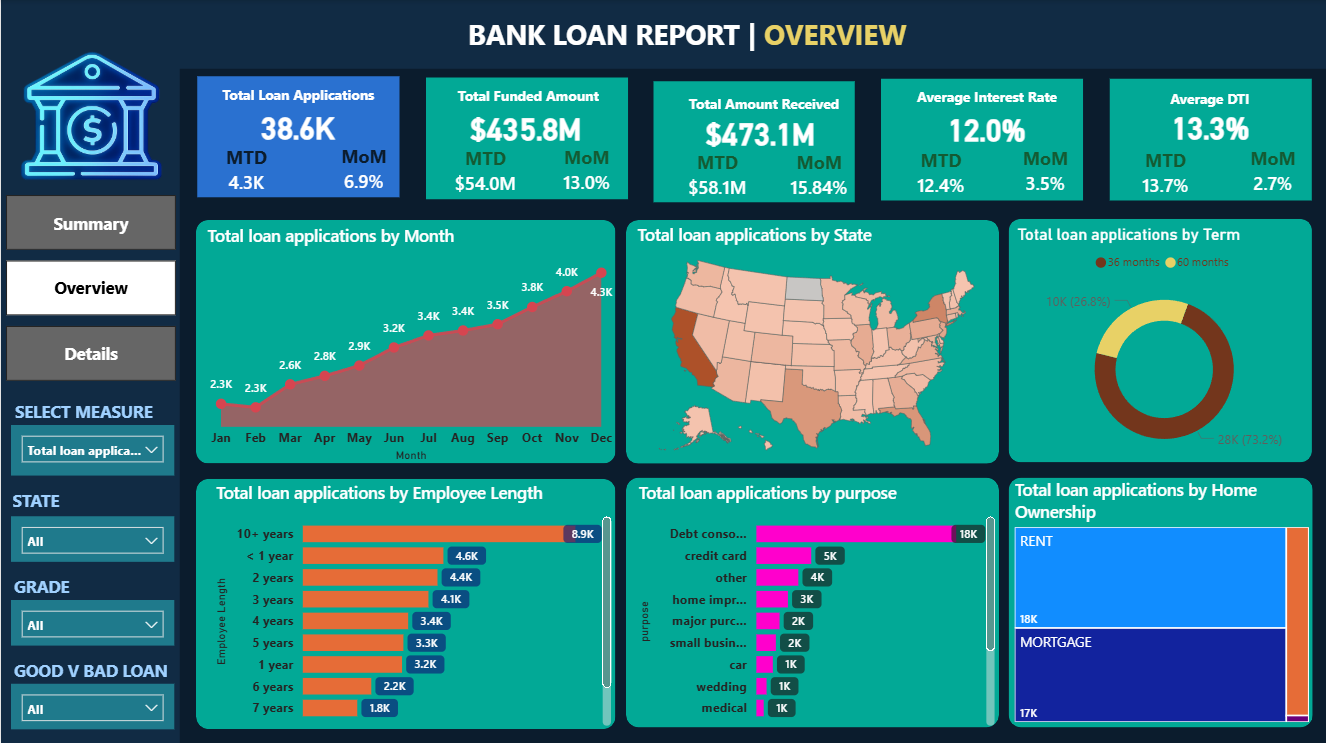

What the dashboard file says about the page in this screenshot:
{"tool":"powerbi","page":{"name":"Overview","canvas":[1280,720],"ordinal":1},"visuals":[{"type":"shape","box":[0,0,172.5,720.2],"z":0},{"type":"shape","box":[188.2,212.3,405,235],"z":1000},{"type":"shape","box":[410,74.8,195,117.5],"z":2000},{"type":"textbox","box":[411.2,78.8,195,38.8],"z":3000},{"type":"shape","box":[0,0,1280,66.4],"z":4000},{"type":"textbox","box":[437.9,9.7,448.8,45.8],"z":5000},{"type":"card","fields":{"Values":["Bank_Loan_Data.Total funded Amount"]},"box":[423.8,103.8,166.2,40],"z":6000},{"type":"card","title":"MTD","fields":{"Values":["Bank_Loan_Data.MTD Funded Amount"]},"box":[428.8,141.2,78.8,53.8],"z":7000},{"type":"card","title":"MoM","fields":{"Values":["Bank_Loan_Data.MoM Total Funded Amount"]},"box":[530,140,71.2,53.8],"z":8000},{"type":"shape","box":[189.4,73.8,195.4,117],"z":9000},{"type":"textbox","box":[189.7,77.6,195,38.8],"z":10000},{"type":"card","fields":{"Values":["Bank_Loan_Data.Total loan applications"]},"box":[202.9,103,167.7,39.8],"z":11000},{"type":"card","title":"MTD","fields":{"Values":["Bank_Loan_Data.MTD Loan Applicatons"]},"box":[207.4,140.1,58.8,53.8],"z":12000},{"type":"card","title":"MoM","fields":{"Values":["Bank_Loan_Data.MoM Loan Applications"]},"box":[321.2,138.8,58.8,53.8],"z":13000},{"type":"shape","box":[630.1,78.9,194.2,117],"z":14000},{"type":"textbox","box":[655.3,85.4,162.9,38.6],"z":15000},{"type":"card","fields":{"Values":["Bank_Loan_Data.Total Amount Received"]},"box":[649.3,109.5,167.7,37.4],"z":16000},{"type":"card","title":"MTD","fields":{"Values":["Bank_Loan_Data.MTD Total Amount Received"]},"box":[651.2,145,80,53.8],"z":17000},{"type":"card","title":"MoM","fields":{"Values":["Bank_Loan_Data.MoM Total Amount Received"]},"box":[753.8,145,71.2,53.8],"z":18000},{"type":"shape","box":[849.4,76.2,195,117.5],"z":19000},{"type":"textbox","box":[854,79.9,195,38.8],"z":20000},{"type":"card","fields":{"Values":["Bank_Loan_Data.Average Interset Rate"]},"box":[867.9,104.7,167.7,38.6],"z":21000},{"type":"card","title":"MTD","fields":{"Values":["Bank_Loan_Data.MTD Average Interset Rate"]},"box":[867.9,142.1,79.6,54.3],"z":22000},{"type":"card","title":"MoM","fields":{"Values":["Bank_Loan_Data.MoM Average Interest Rate"]},"box":[972.5,141.2,71.2,53.8],"z":23000},{"type":"shape","box":[1069.5,76.2,195,117.5],"z":24000},{"type":"textbox","box":[1070.6,80.6,193,27.7],"z":25000},{"type":"card","fields":{"Values":["Bank_Loan_Data.Average DTI"]},"box":[1083.9,101.1,167.7,42.2],"z":26000},{"type":"card","title":"MTD","fields":{"Values":["Bank_Loan_Data.MTD Average DTI"]},"box":[1085,142.4,78.8,53.8],"z":27000},{"type":"card","title":"MoM","fields":{"Values":["Bank_Loan_Data.MoM Average DTI"]},"box":[1192.5,141.2,71.2,53.8],"z":28000},{"type":"slicer","fields":{"Values":["Bank_Loan_Data.address_state"]},"box":[9.8,498.1,157.5,43.8],"z":29000},{"type":"textbox","box":[2.3,466.8,62.5,31.2],"z":30000},{"type":"slicer","fields":{"Values":["Bank_Loan_Data.grade"]},"box":[9.8,579.3,157.5,43.8],"z":31000},{"type":"slicer","fields":{"Values":["Bank_Loan_Data.Good vs Bad Loan "]},"box":[9.8,659.4,157.5,43.8],"z":32000},{"type":"textbox","box":[2.3,550.6,73.8,31.2],"z":33000},{"type":"textbox","box":[6,631.6,161.2,31.2],"z":34000},{"type":"areaChart","fields":{"Y":["Bank_Loan_Data.Total loan applications"],"Category":["Date Table.Month"]},"box":[193.8,216.2,403.8,235],"z":35000},{"type":"slicer","fields":{"Values":["Select Measure.Select Measure"]},"box":[9.8,410.3,157.5,48.8],"z":36000},{"type":"textbox","box":[4.3,381.4,150,31.4],"z":37000},{"type":"shape","box":[603.2,212.3,360,235.3],"z":38000},{"type":"shapeMap","fields":{"Value":["Bank_Loan_Data.Total loan applications"],"Category":["Bank_Loan_Data.address_state"]},"box":[608.8,215,356.2,235],"z":39000},{"type":"shape","box":[972.4,211.1,293.2,235.3],"z":40000},{"type":"donutChart","fields":{"Y":["Bank_Loan_Data.Total loan applications"],"Category":["Bank_Loan_Data.term"]},"box":[976.2,217.5,293.8,233.8],"z":41000},{"type":"shape","box":[188.3,461.7,405,241.7],"z":42000},{"type":"barChart","fields":{"Y":["Bank_Loan_Data.Total loan applications"],"Category":["Bank_Loan_Data.emp_length"]},"box":[202.5,465,391.2,241.2],"z":43000},{"type":"shape","box":[603.8,461.2,360,241.2],"z":44000},{"type":"barChart","fields":{"Y":["Bank_Loan_Data.Total loan applications"],"Category":["Bank_Loan_Data.purpose"]},"box":[610,465,353.8,241.2],"z":45000},{"type":"shape","box":[972.5,461.2,293.8,241.2],"z":46000},{"type":"treemap","fields":{"Values":["Bank_Loan_Data.Total loan applications"],"Group":["Bank_Loan_Data.home_ownership"]},"box":[973.8,461.2,293.8,241.2],"z":47000},{"type":"pageNavigator","box":[4.3,188.6,164.3,181.4],"z":48000},{"type":"image","box":[14.3,22.9,150,182.9],"z":49000}]}

Visuals, with their boxes in screenshot pixels (x1, y1, x2, y2), scaled from the page's 1280x720 canvas onto the 1326x743 screenshot:
shape: BBox(0, 0, 179, 742)
shape: BBox(195, 219, 615, 462)
shape: BBox(425, 77, 627, 198)
textbox: BBox(426, 81, 628, 121)
shape: BBox(0, 0, 1325, 69)
textbox: BBox(454, 10, 919, 57)
card - Bank_Loan_Data.Total funded Amount: BBox(439, 107, 611, 148)
"MTD" card: BBox(444, 146, 526, 201)
"MoM" card: BBox(549, 144, 623, 200)
shape: BBox(196, 76, 399, 197)
textbox: BBox(197, 80, 399, 120)
card - Bank_Loan_Data.Total loan applications: BBox(210, 106, 384, 147)
"MTD" card: BBox(215, 145, 276, 200)
"MoM" card: BBox(333, 143, 394, 199)
shape: BBox(653, 81, 854, 202)
textbox: BBox(679, 88, 848, 128)
card - Bank_Loan_Data.Total Amount Received: BBox(673, 113, 846, 152)
"MTD" card: BBox(675, 150, 757, 205)
"MoM" card: BBox(781, 150, 855, 205)
shape: BBox(880, 79, 1082, 200)
textbox: BBox(885, 82, 1087, 122)
card - Bank_Loan_Data.Average Interset Rate: BBox(899, 108, 1073, 148)
"MTD" card: BBox(899, 147, 982, 203)
"MoM" card: BBox(1007, 146, 1081, 201)
shape: BBox(1108, 79, 1310, 200)
textbox: BBox(1109, 83, 1309, 112)
card - Bank_Loan_Data.Average DTI: BBox(1123, 104, 1297, 148)
"MTD" card: BBox(1124, 147, 1206, 202)
"MoM" card: BBox(1235, 146, 1309, 201)
slicer - Bank_Loan_Data.address_state: BBox(10, 514, 173, 559)
textbox: BBox(2, 482, 67, 514)
slicer - Bank_Loan_Data.grade: BBox(10, 598, 173, 643)
slicer - Bank_Loan_Data.Good vs Bad Loan : BBox(10, 680, 173, 726)
textbox: BBox(2, 568, 79, 600)
textbox: BBox(6, 652, 173, 684)
areaChart - Bank_Loan_Data.Total loan applications x Date Table.Month: BBox(201, 223, 619, 466)
slicer - Select Measure.Select Measure: BBox(10, 423, 173, 474)
textbox: BBox(4, 394, 160, 426)
shape: BBox(625, 219, 998, 462)
shapeMap - Bank_Loan_Data.Total loan applications x Bank_Loan_Data.address_state: BBox(631, 222, 1000, 464)
shape: BBox(1007, 218, 1311, 461)
donutChart - Bank_Loan_Data.Total loan applications x Bank_Loan_Data.term: BBox(1011, 224, 1316, 466)
shape: BBox(195, 476, 615, 726)
barChart - Bank_Loan_Data.Total loan applications x Bank_Loan_Data.emp_length: BBox(210, 480, 615, 729)
shape: BBox(625, 476, 998, 725)
barChart - Bank_Loan_Data.Total loan applications x Bank_Loan_Data.purpose: BBox(632, 480, 998, 729)
shape: BBox(1007, 476, 1312, 725)
treemap - Bank_Loan_Data.Total loan applications x Bank_Loan_Data.home_ownership: BBox(1009, 476, 1313, 725)
pageNavigator: BBox(4, 195, 175, 382)
image: BBox(15, 24, 170, 212)
